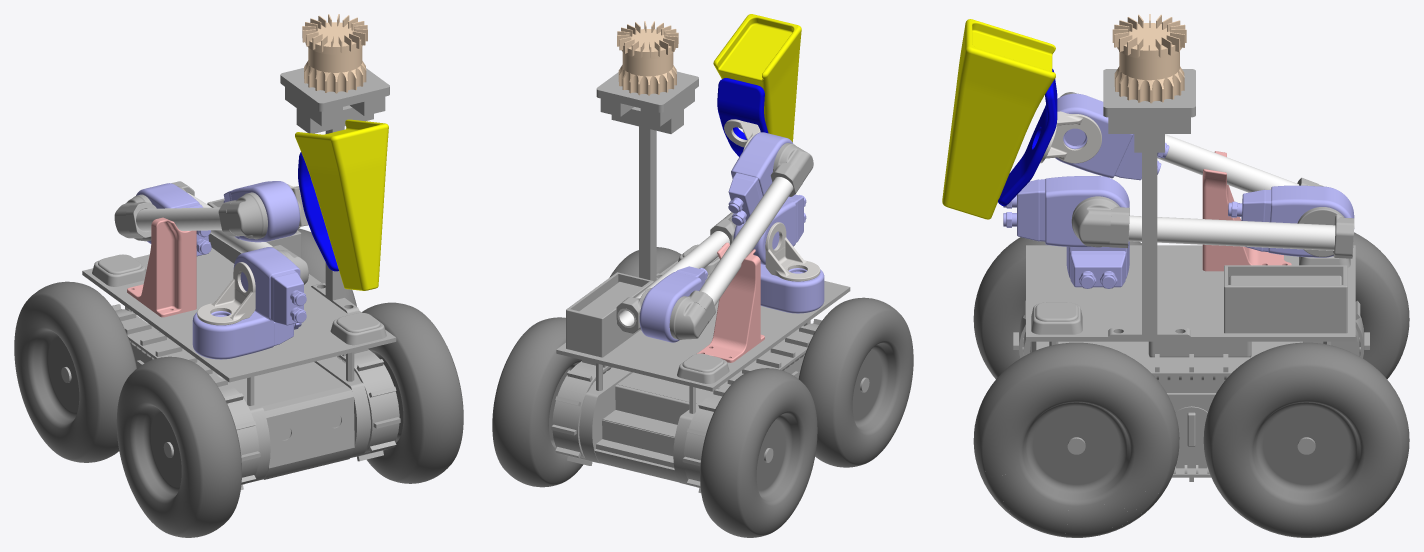
The model's file is patrick.glb.
The picture shows the model from 3 angles, left to right: view 1: azimuth 30°, elevation 25°; view 2: azimuth 150°, elevation 25°; view 3: azimuth 270°, elevation 25°; orthographic projection. The views are drawn at different scales.
Parts seen in each view (by area): view 1: card_lifesize; view 2: card_lifesize; view 3: card_lifesize.
Part boxes in pixels (x1,y1,x2,y2): card_lifesize: (14,14,463,537); card_lifesize: (492,14,913,537); card_lifesize: (942,14,1409,537).
Bounding box in the file's own units: 0.4365 × 0.6605 × 0.5757.
